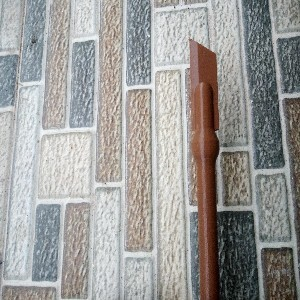cutter: (187, 36, 221, 300)
